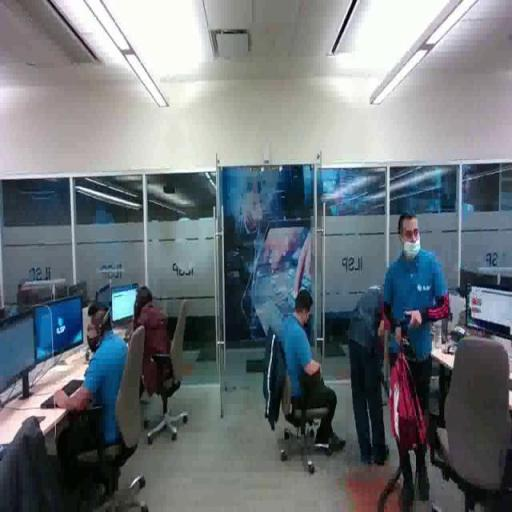person: (46, 300, 145, 504), (382, 213, 449, 508), (261, 281, 357, 474), (119, 280, 181, 430)
